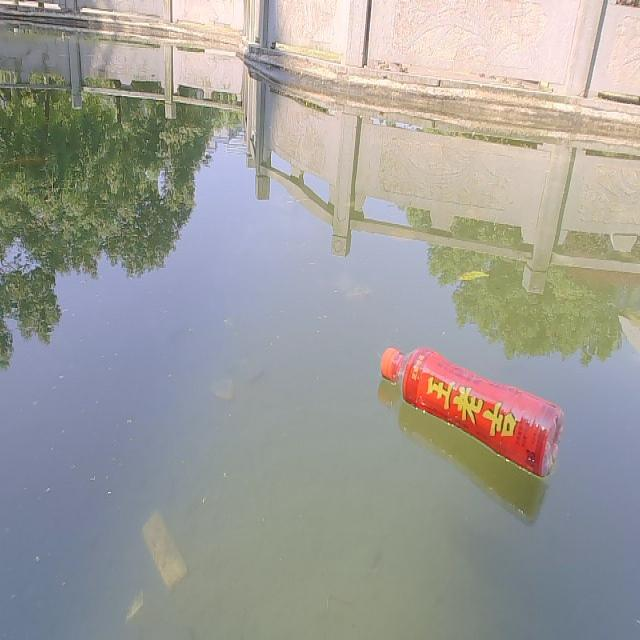bottle: (376, 340, 569, 481)
